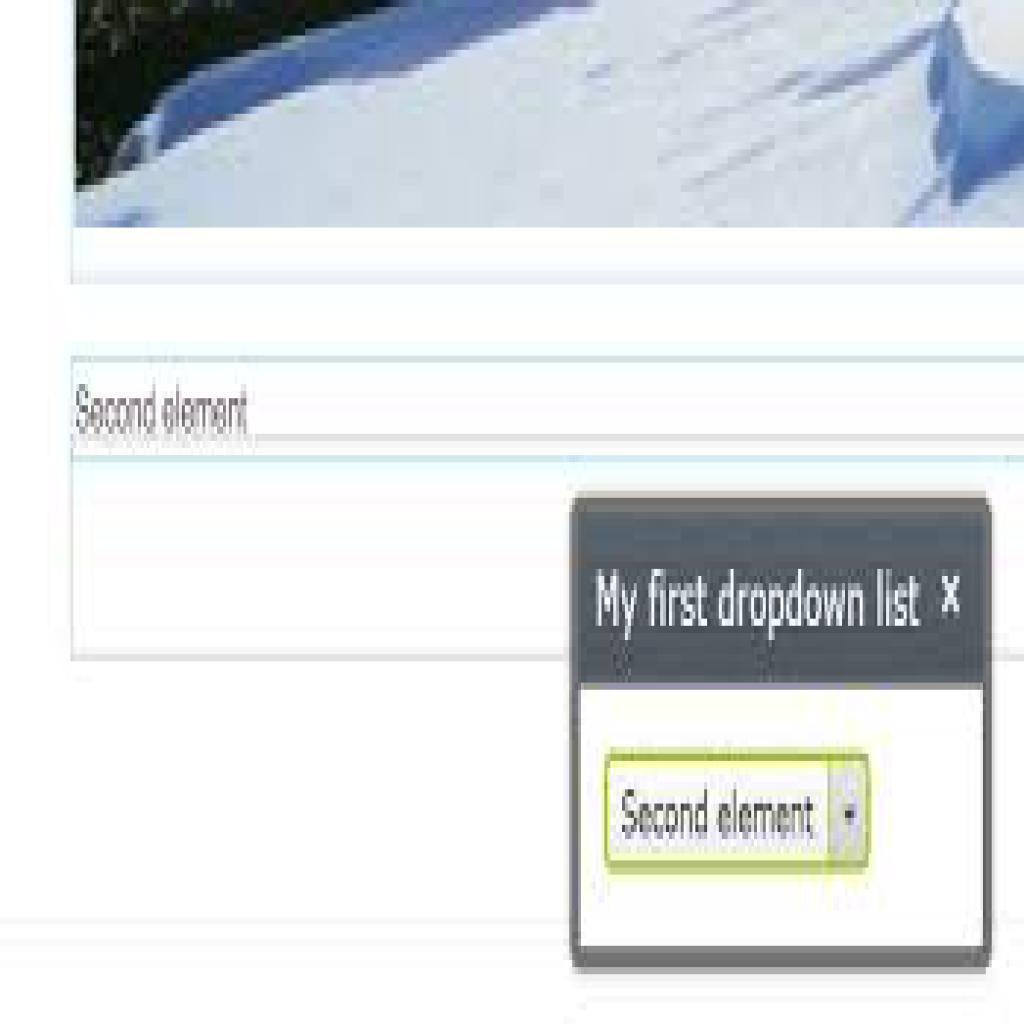dropdown: (604, 754, 873, 870)
icon: (940, 571, 965, 620)
